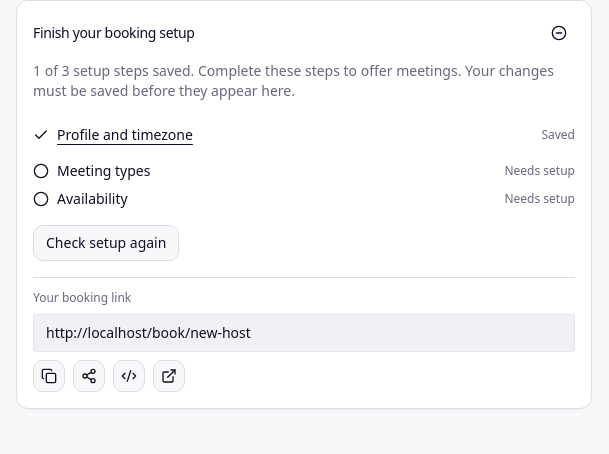
Test case: booking setup and link recovery › provides manual recovery when clipboard permission is denied
Click the button named "Copy link" at [49, 376], box x1=33 y1=360 x2=65 y2=392
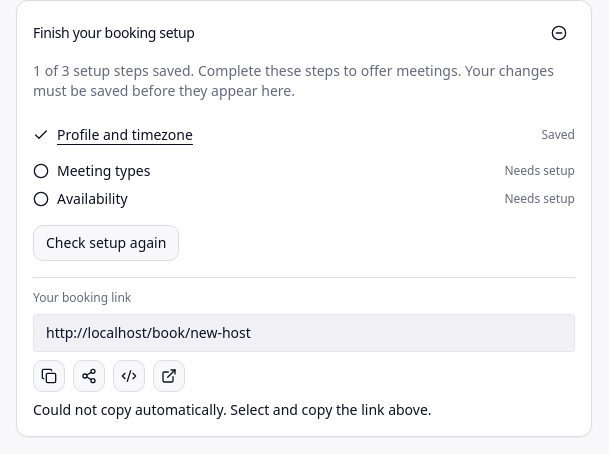
Result: the message "Could not copy automatically. Select and copy the link above." is shown at x1=33 y1=400 x2=432 y2=419
